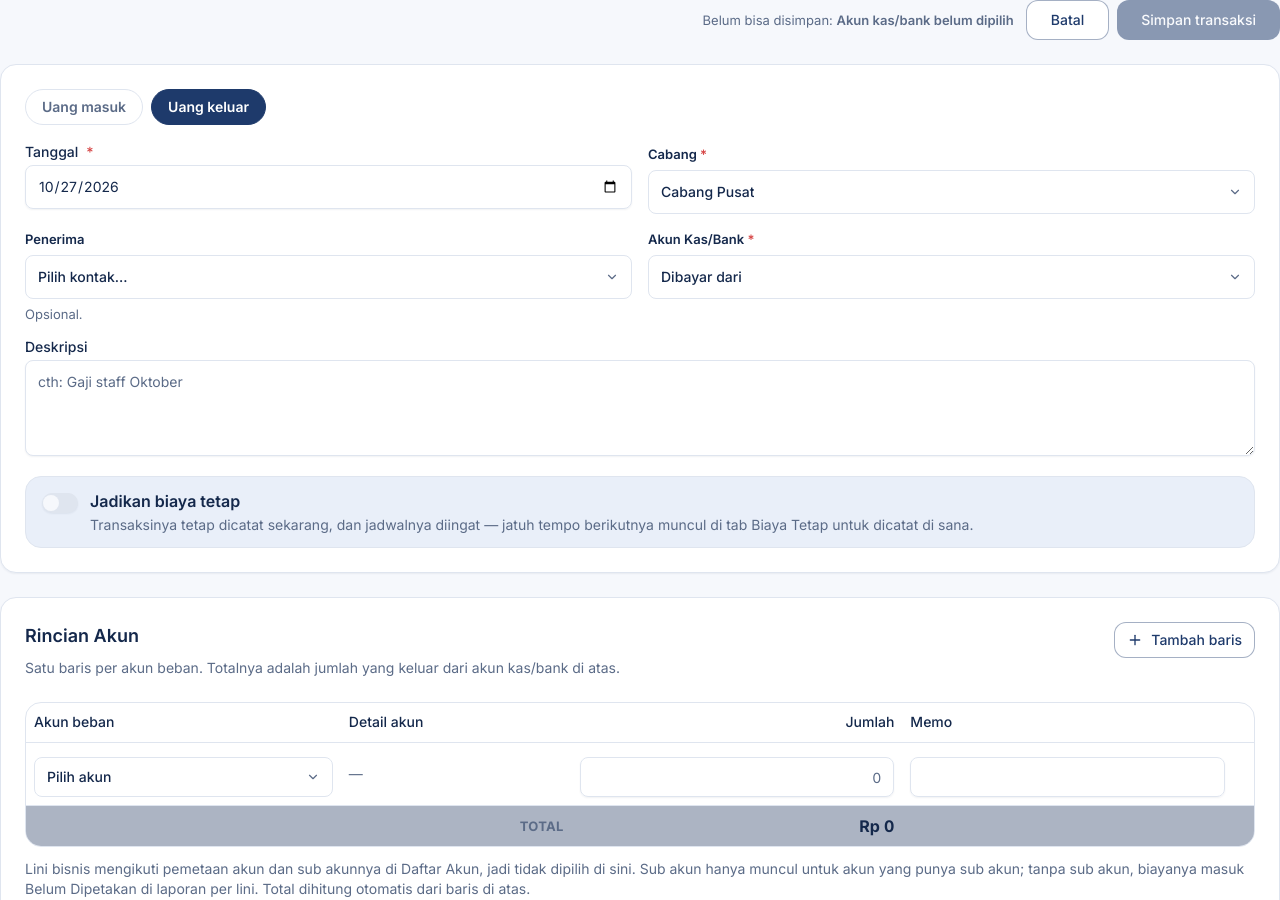
it: CashTransactionCreateForm › keeps Simpan off, saying why, until the required fields are answered
This screenshot has width=1280, height=900.
Expected: the text "Akun kas/bank belum dipilih" is shown, [836,12,1014,28]
Expected: the button "Simpan transaksi" is disabled, [1117,0,1279,40]
Click the button with aria-label "Akun Kas/Bank" at [701, 276], box [648,255,1255,299]
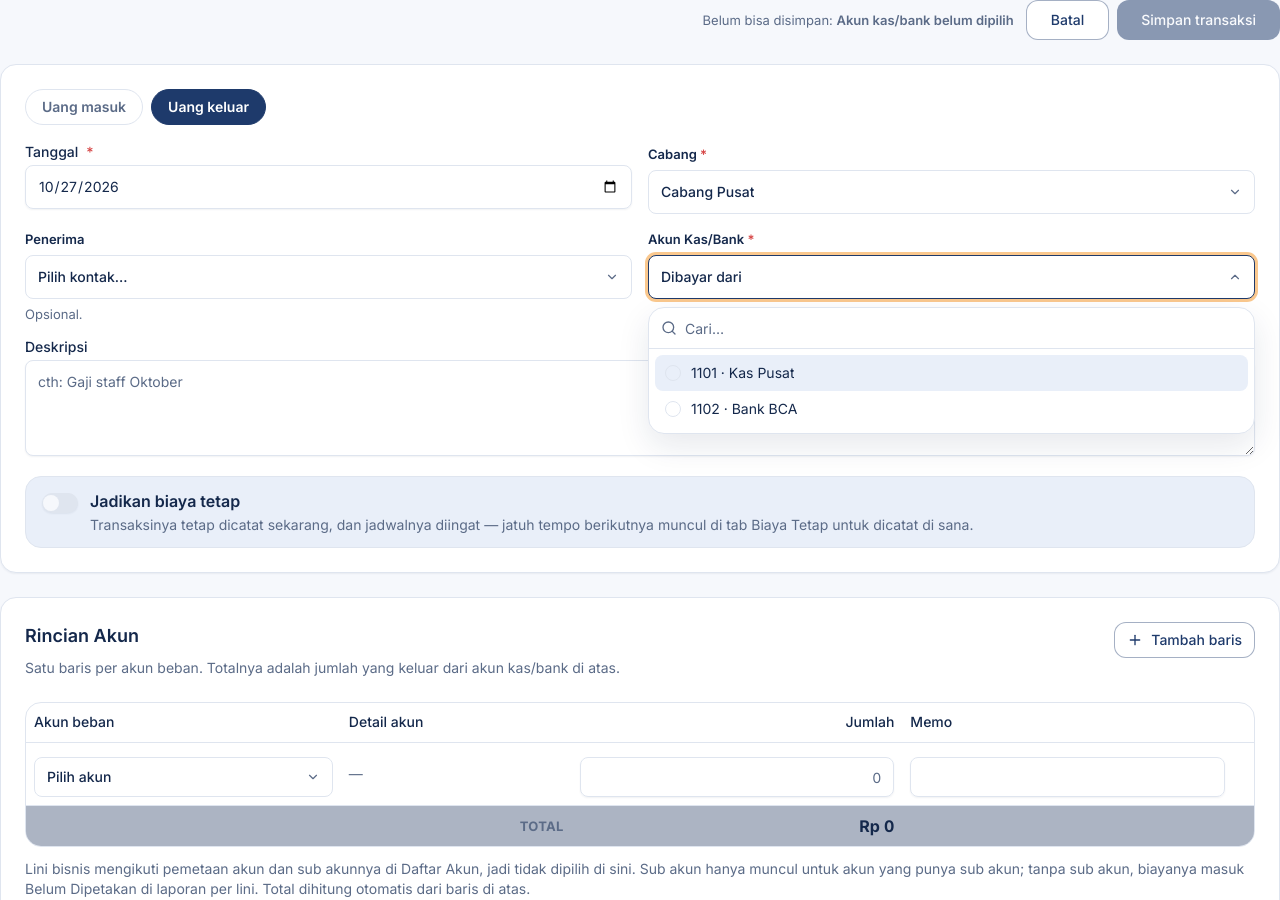
Click the option "1101 · Kas Pusat" at [743, 372], box [655,355,1248,391]
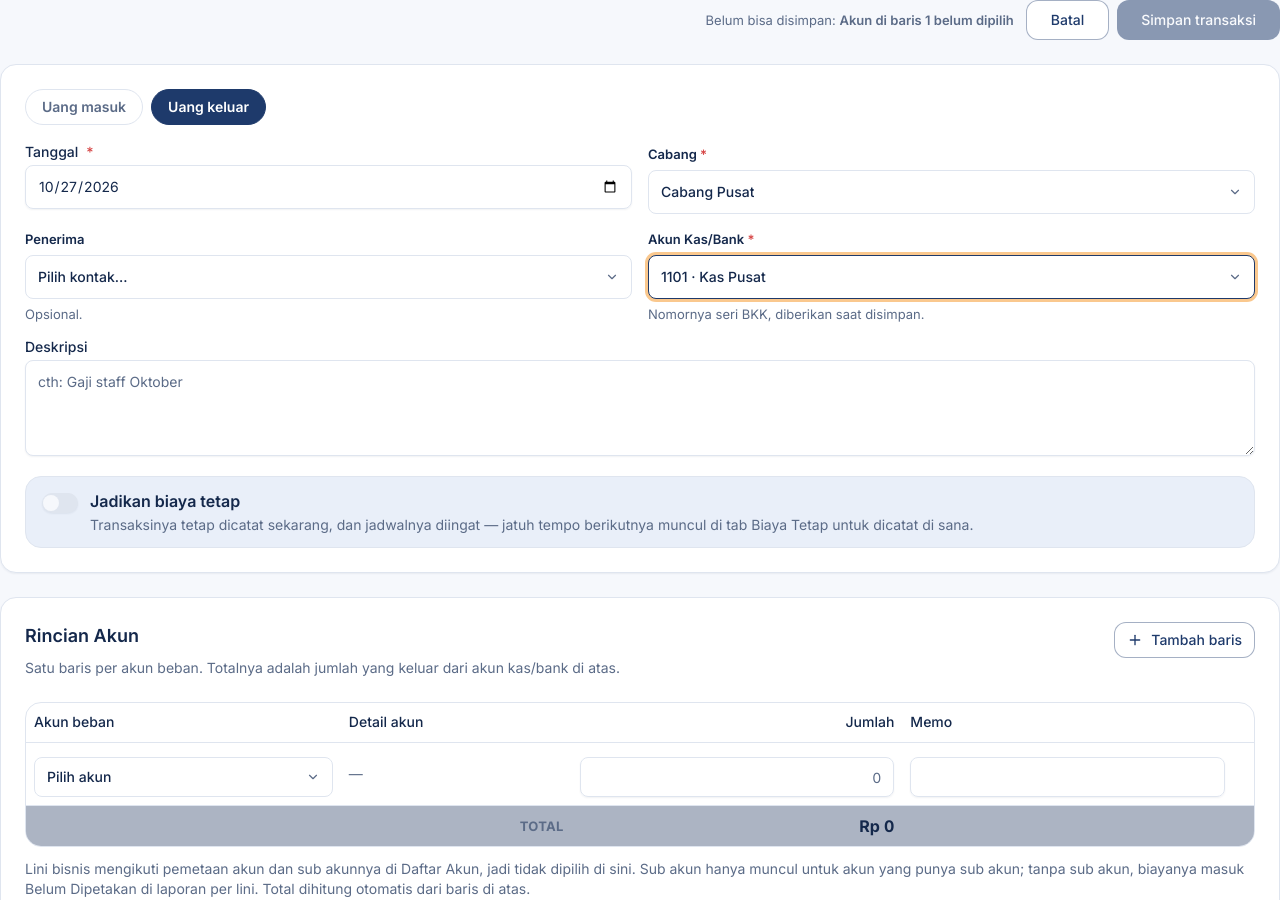
Expected: the text "Akun di baris 1 belum dipilih" is shown, [839,12,1014,28]
Click the button with aria-label "Akun baris 1" at [79, 777], box [34,757,333,797]
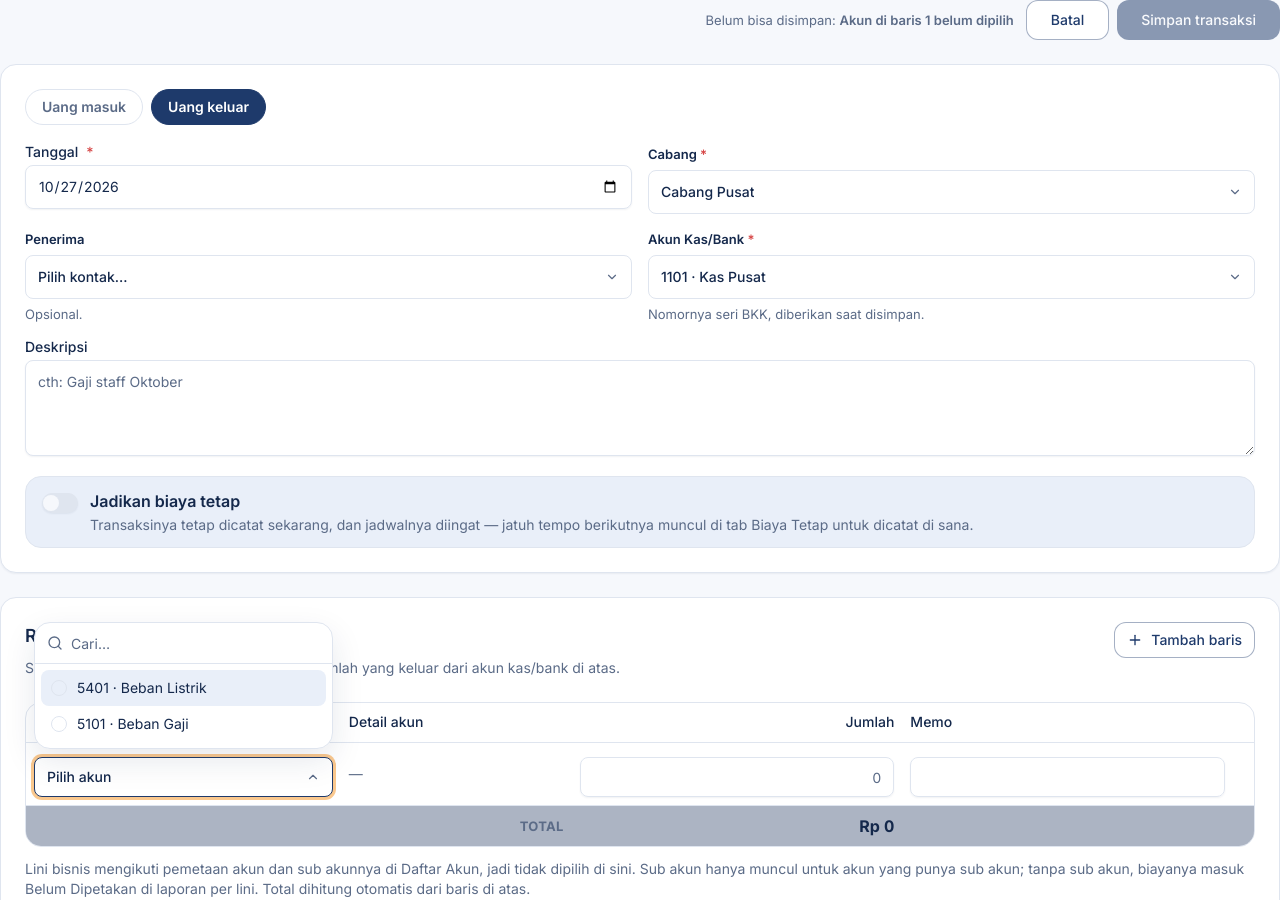
Click the option "5401 · Beban Listrik" at [183, 688], box [41,670,326,706]
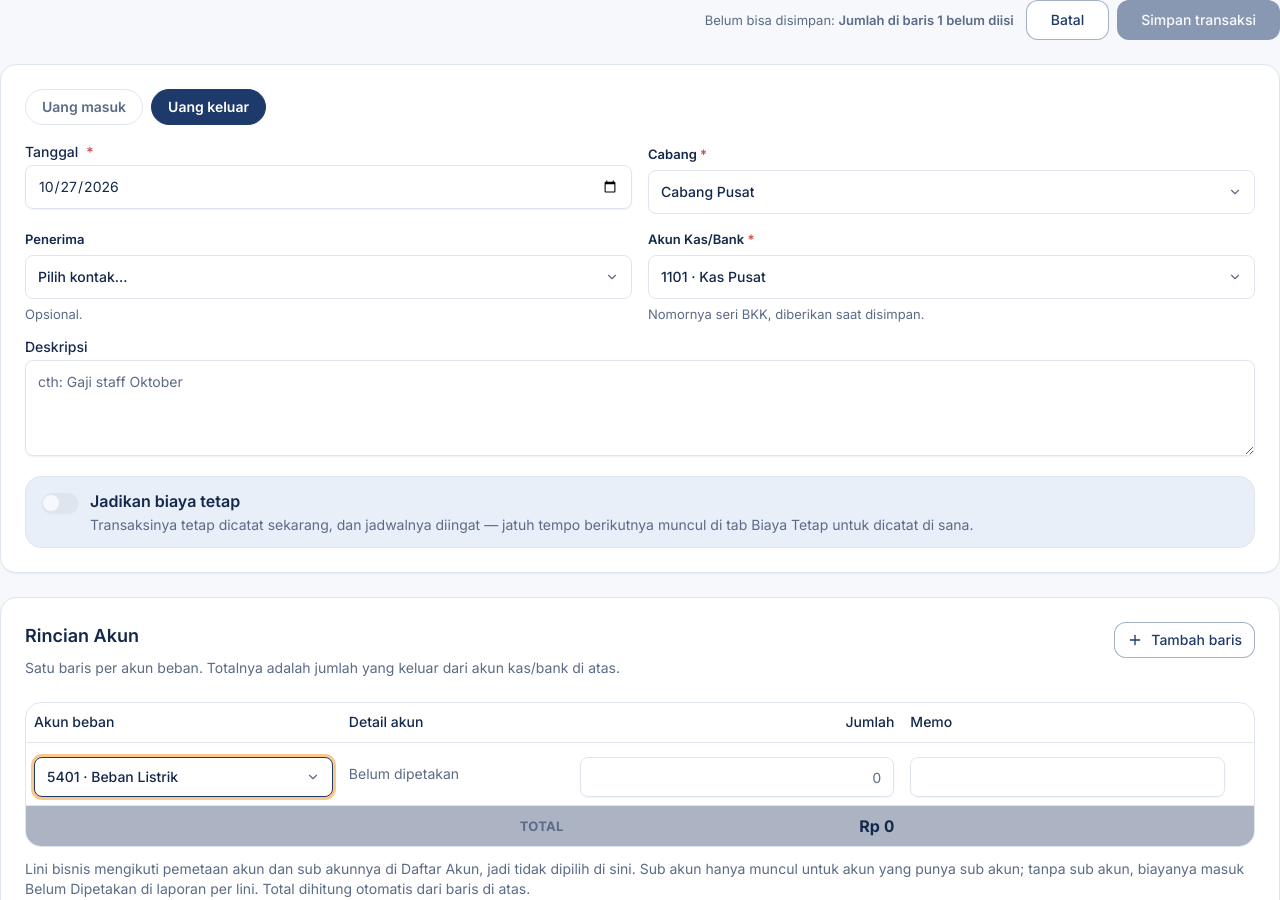
Expected: the button "Simpan transaksi" is disabled, [1117,0,1279,40]
Expected: the text "Jumlah di baris 1 belum diisi" is shown, [838,12,1014,28]
Type "75000" into the field named "Jumlah baris 1" at [737, 777], box [580,757,894,797]
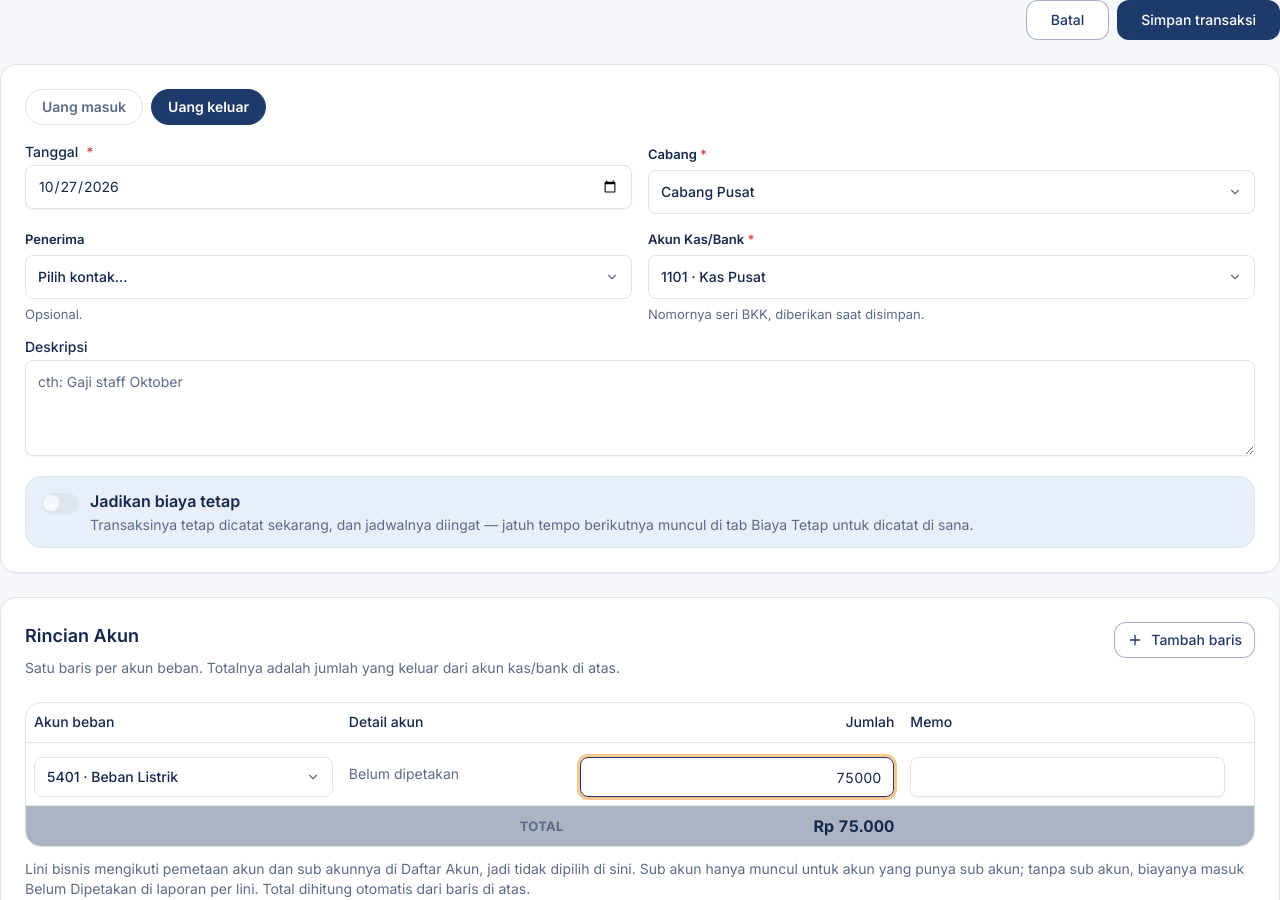
Expected: the button "Simpan transaksi" is enabled, [1117,0,1279,40]
